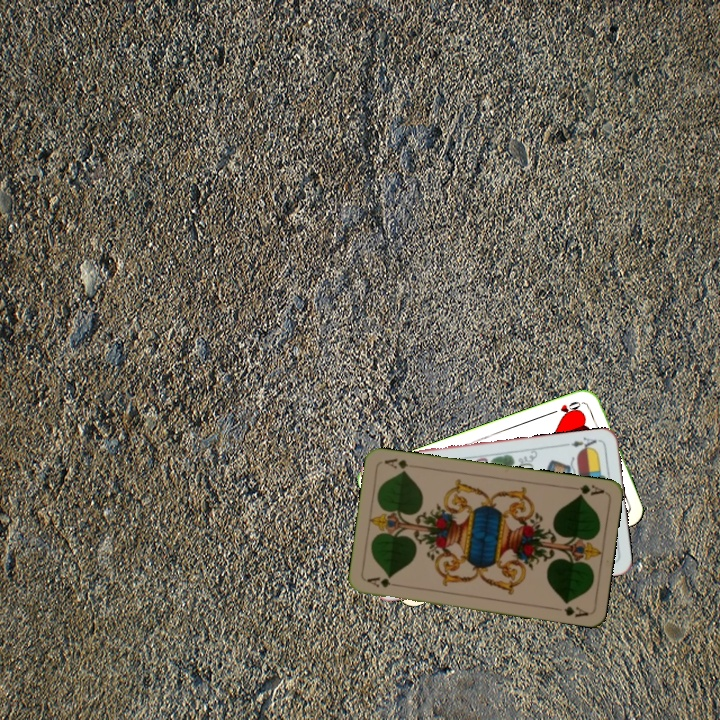EA: (562, 433, 599, 454)
GA: (566, 481, 607, 499), (363, 573, 403, 590)
HO: (548, 397, 588, 420)
